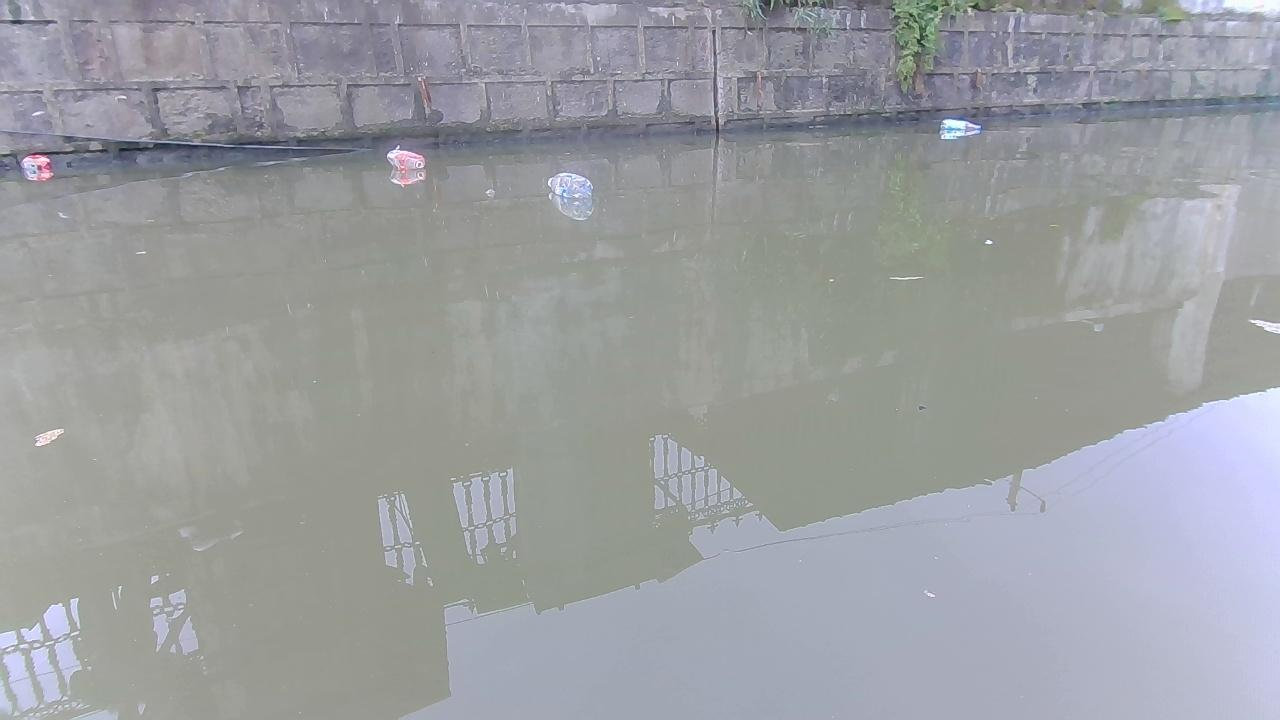bottle: (544, 174, 591, 199), (936, 118, 986, 137), (385, 149, 425, 172), (19, 152, 56, 176)
